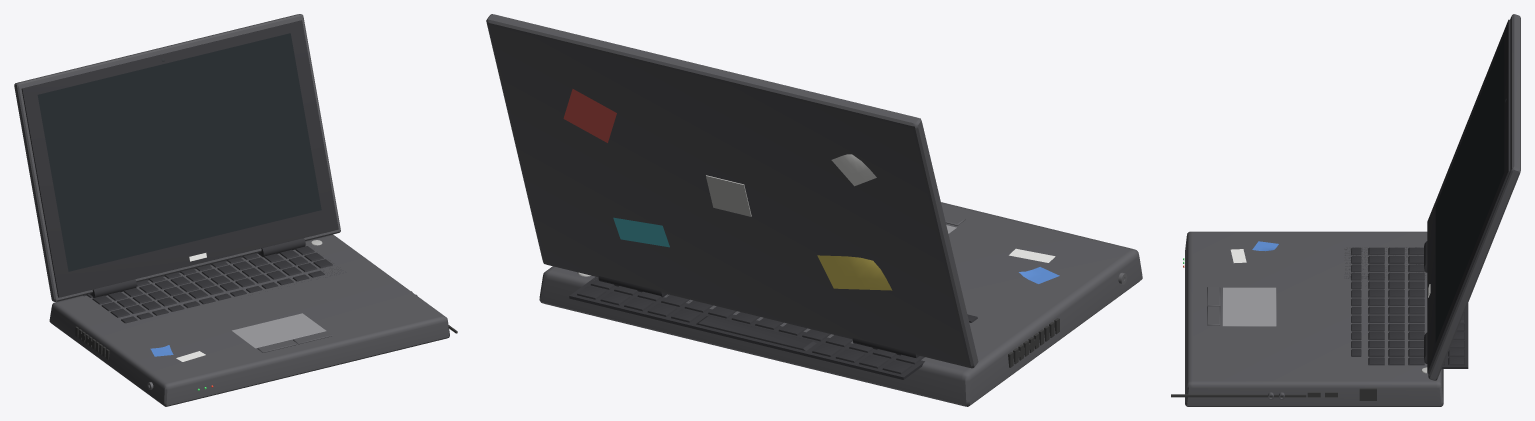
Rendered from electronics_laptop_open.fbx.
3 renders of one model, left to right at view 1: azimuth 30°, elevation 25°; view 2: azimuth 150°, elevation 25°; view 3: azimuth 270°, elevation 25°, orthographic. The views are drawn at different scales.
Parts seen in each view (by area): view 1: electronics_laptop_open_body, screen; view 2: electronics_laptop_open_body; view 3: electronics_laptop_open_body, screen.
Boxes of the visible parts, <box> form: electronics_laptop_open_body: <box>14,14,457,406</box>; screen: <box>37,33,321,271</box>; electronics_laptop_open_body: <box>486,14,1142,406</box>; electronics_laptop_open_body: <box>1171,14,1520,406</box>; screen: <box>1435,36,1504,342</box>.
Size of the model in its own units: 0.3458 by 0.2476 by 0.3236.
